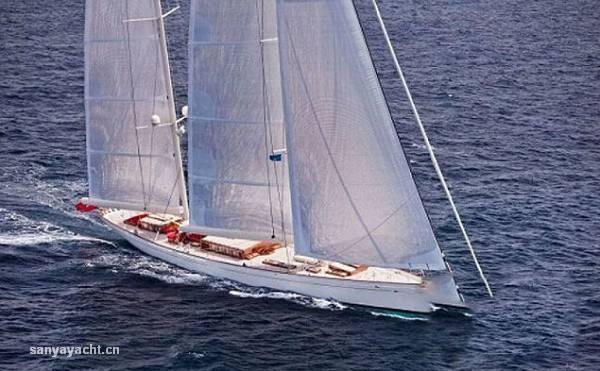fanchuan: (47, 1, 481, 317)
